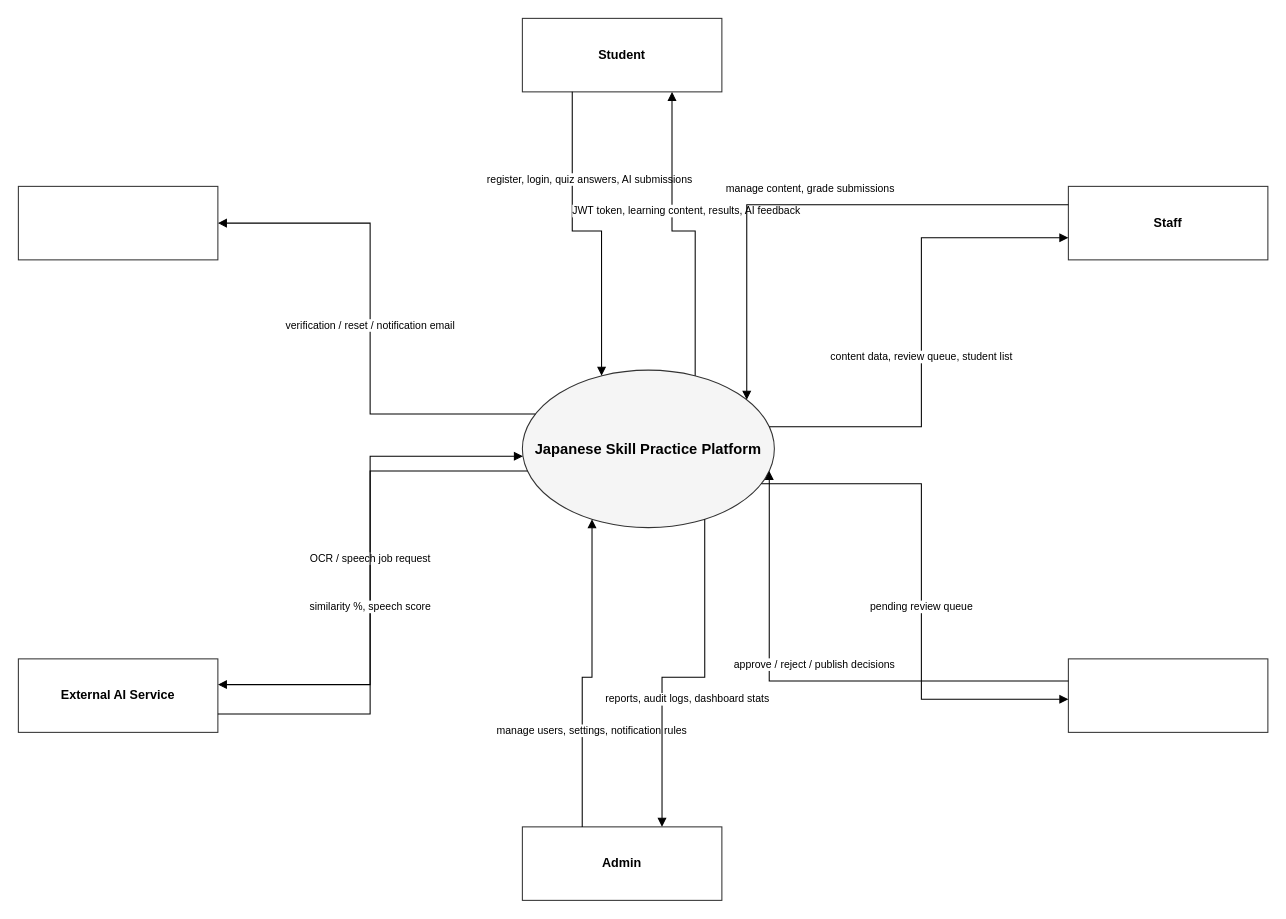
Some shapes in this 1286 by 919 pixel diagram are drawn without their labels. The centre of each missing label's shape, as x and y in pixels:
SMTP Server: (117,222)
StaffManager: (1167,695)
